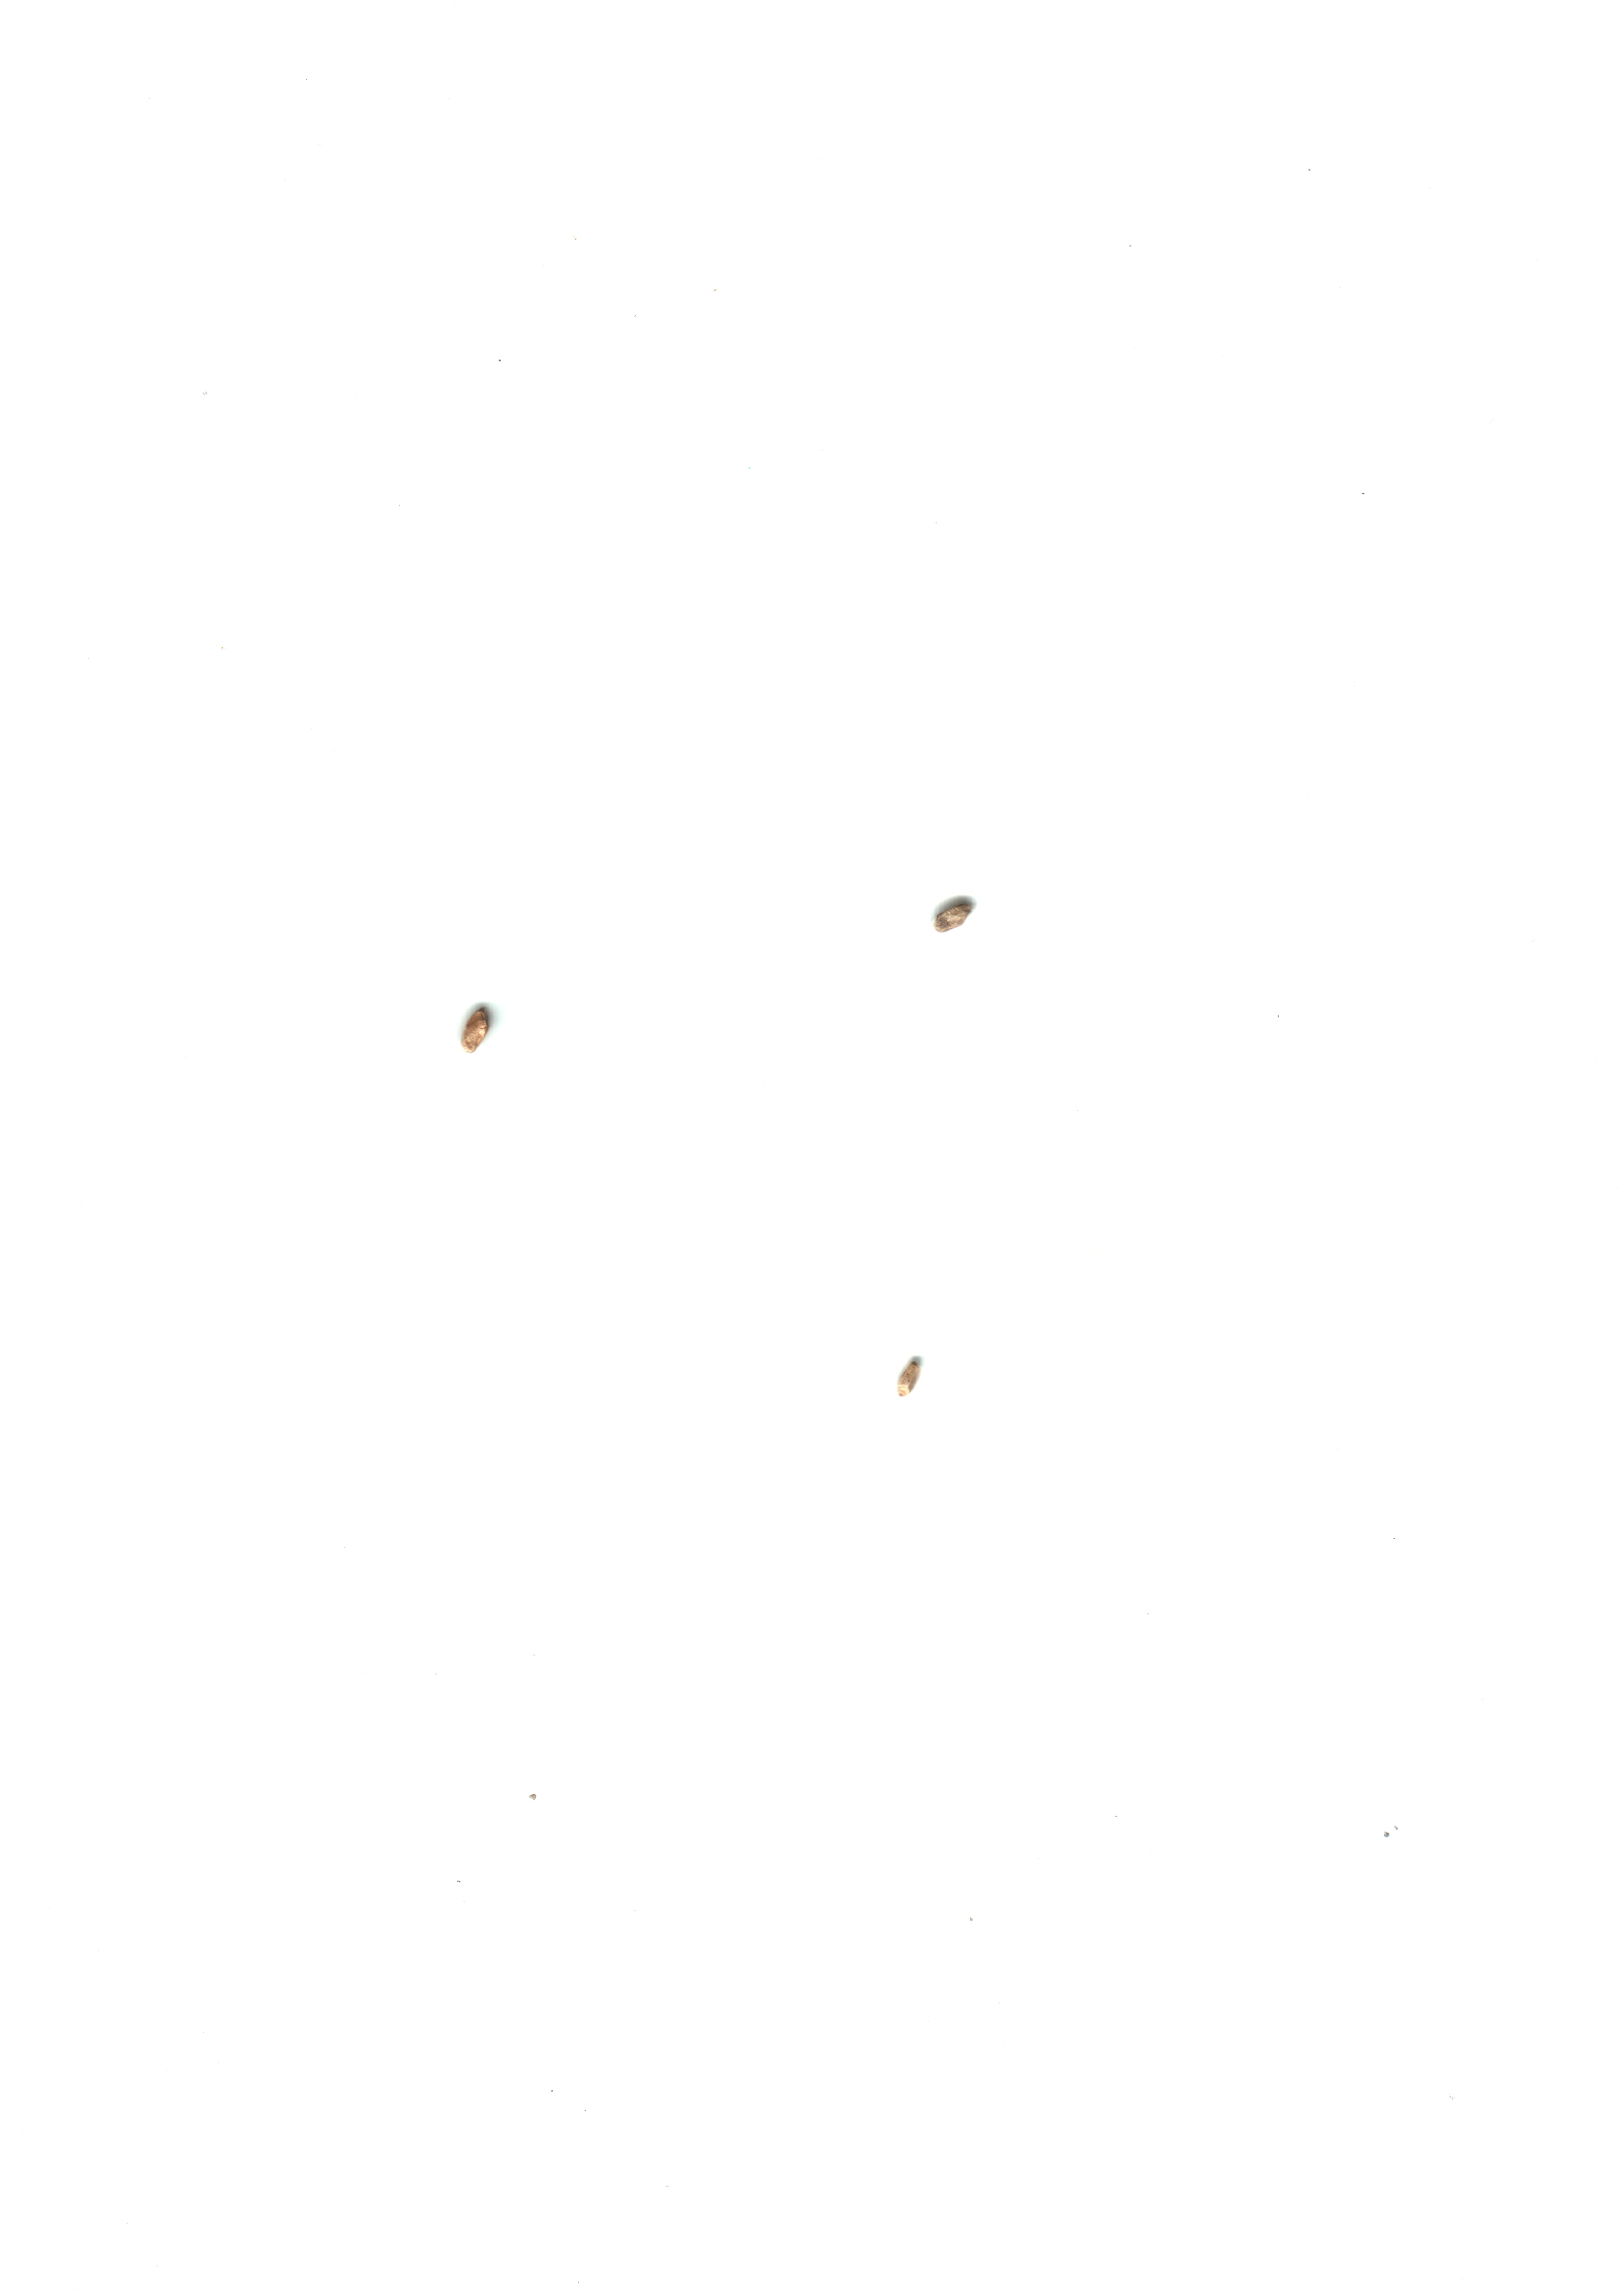grains_2_5mm: (909, 873, 992, 962), (876, 1327, 957, 1416), (440, 981, 520, 1071)
